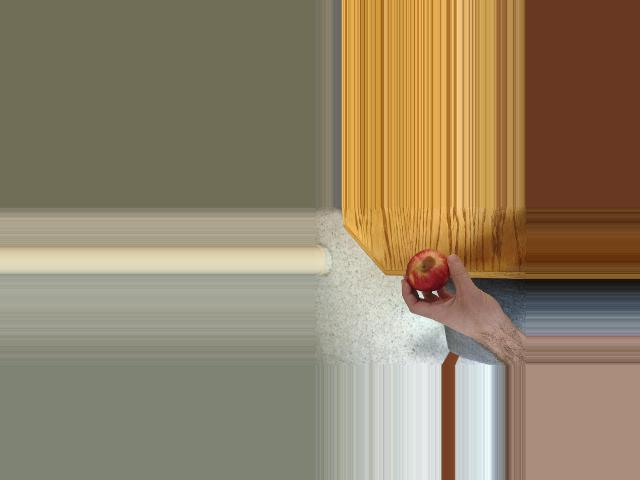apple: (404, 249, 455, 292)
